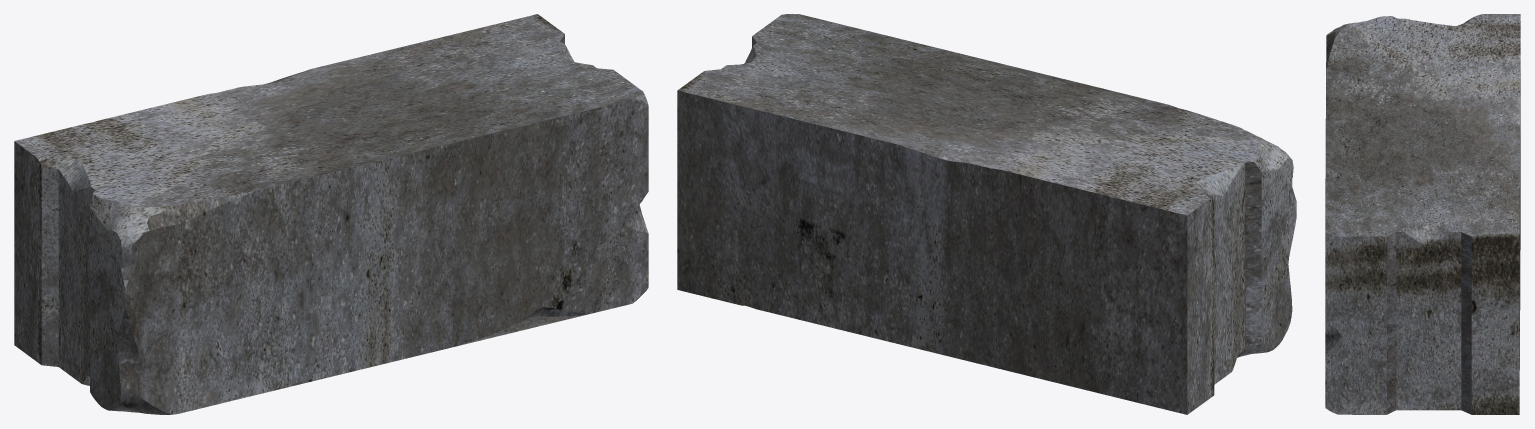
The model's file is Bet_blok_002-1.fbx.
3 renders of one model, left to right at view 1: azimuth 30°, elevation 25°; view 2: azimuth 150°, elevation 25°; view 3: azimuth 270°, elevation 25°, orthographic. The views are drawn at different scales.
Parts seen in each view (by area): view 1: Cube_dmg.001; view 2: Cube_dmg.001; view 3: Cube_dmg.001.
Part boxes in pixels (x1,y1,x2,y2): Cube_dmg.001: (14,14,648,414); Cube_dmg.001: (677,14,1296,414); Cube_dmg.001: (1325,14,1520,414).
Size of the model in its own units: 174 by 65.01 by 64.67.
